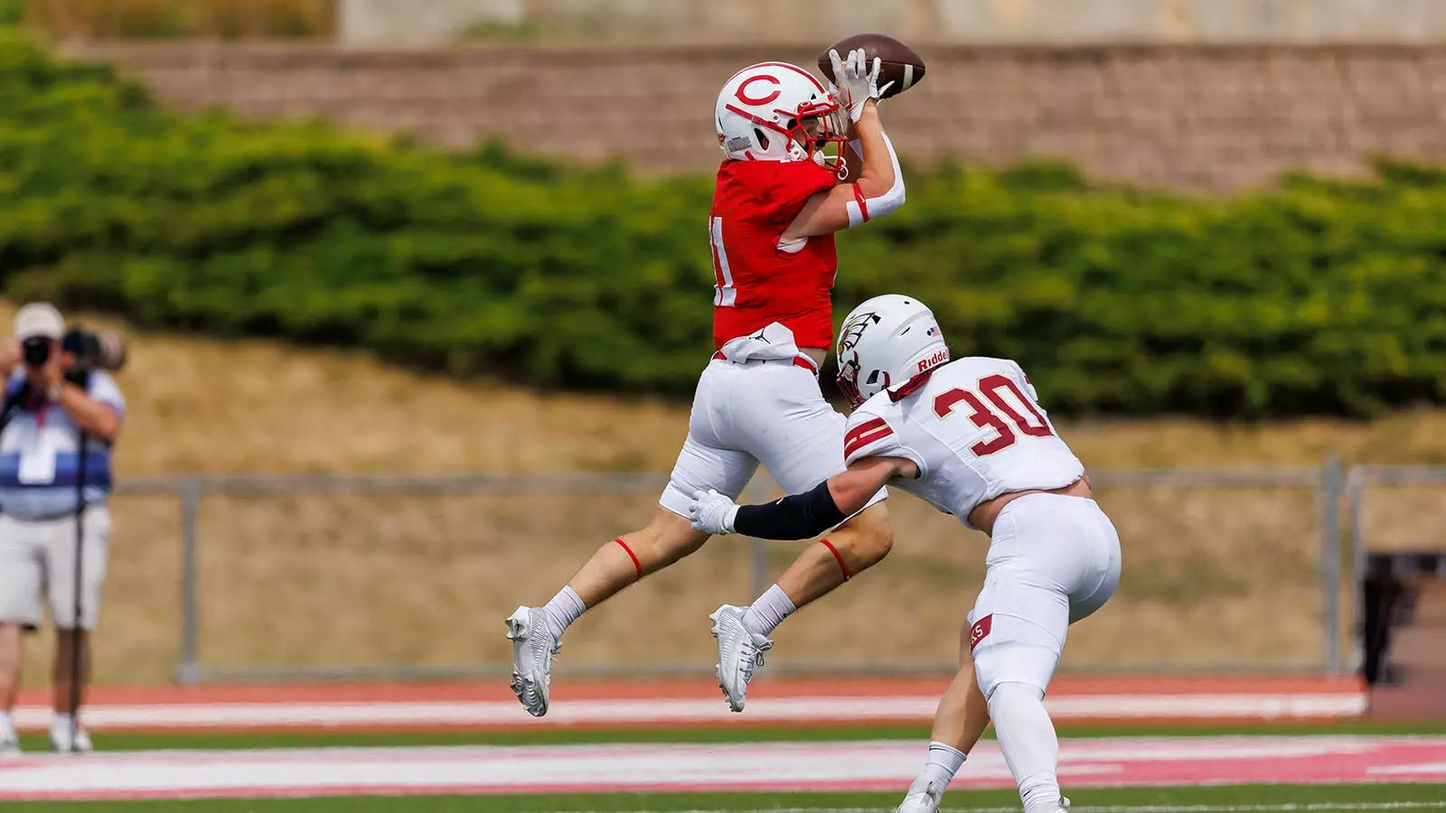americanFootball: (822, 40, 930, 94)
